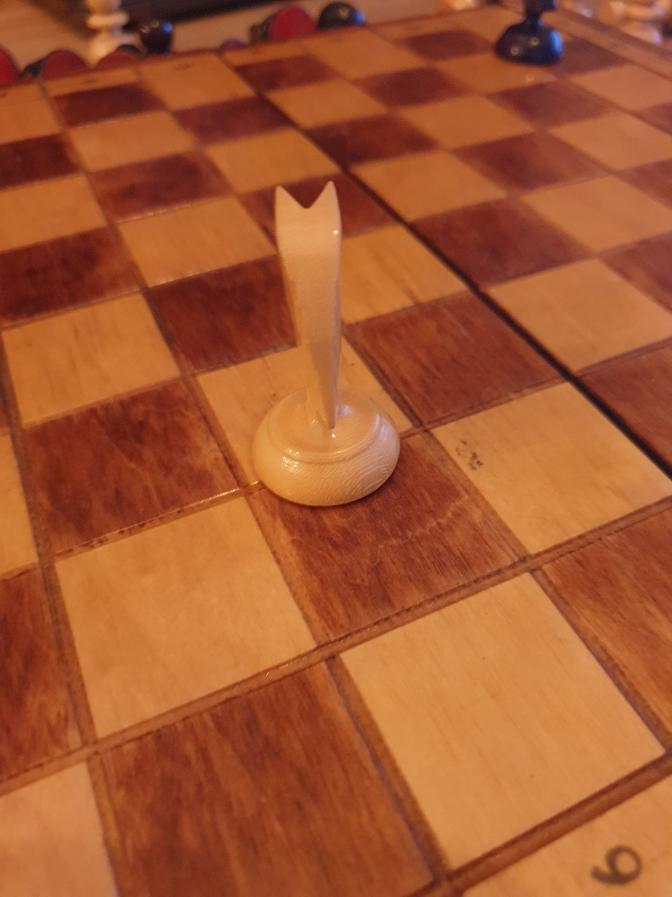wknight: (248, 181, 404, 507)
